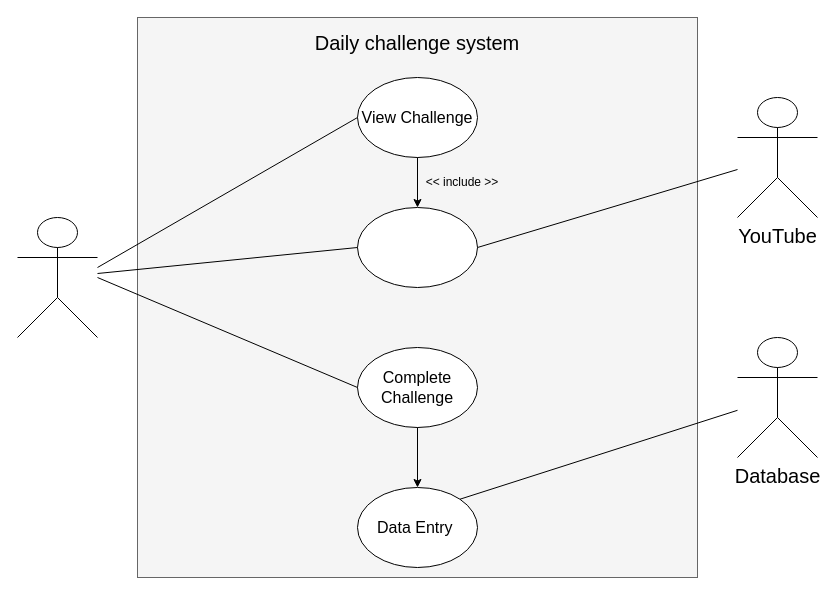
This 838x595 diagram has some shape labels left out. Here are the shapes that lost their labels. From the top down, the centre of each, then its label:
At (x=417, y=247): "Display video".
At (x=57, y=277): "User".
